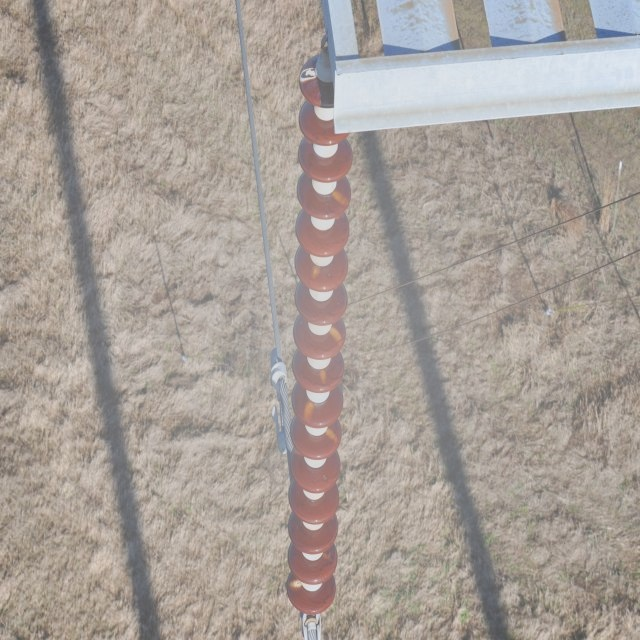insulator: (286, 51, 355, 617)
